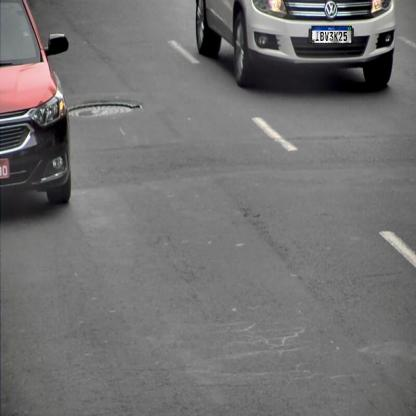PlacaM: (312, 26, 352, 43)
